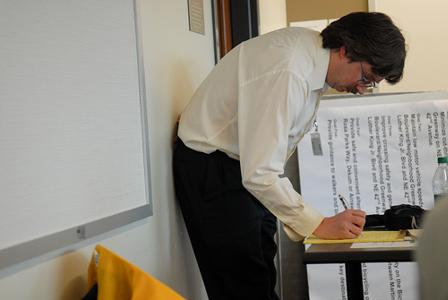person: (173, 13, 406, 300)
